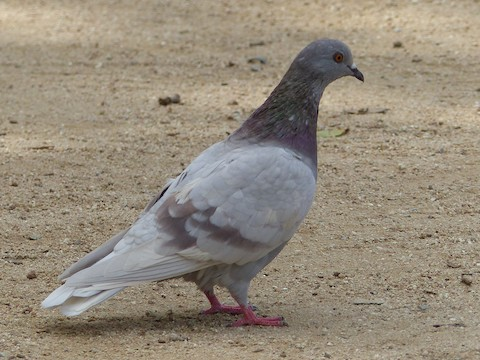pigeon: (43, 30, 371, 333)
